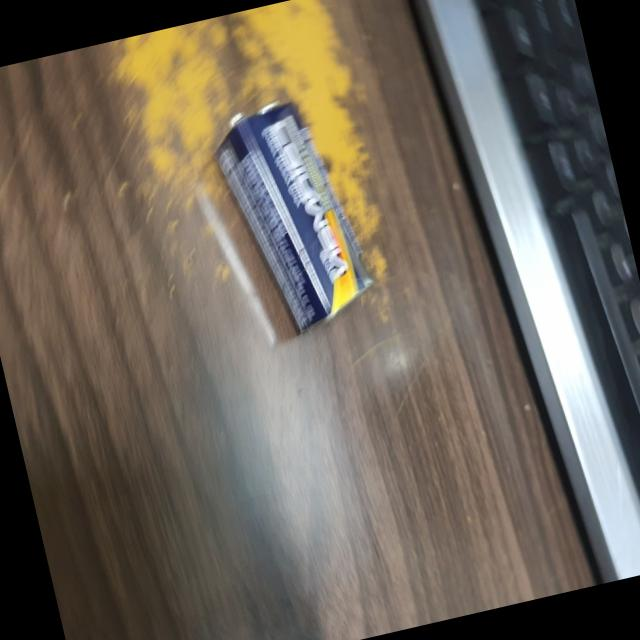battery-etc-etc: (202, 80, 398, 352)
